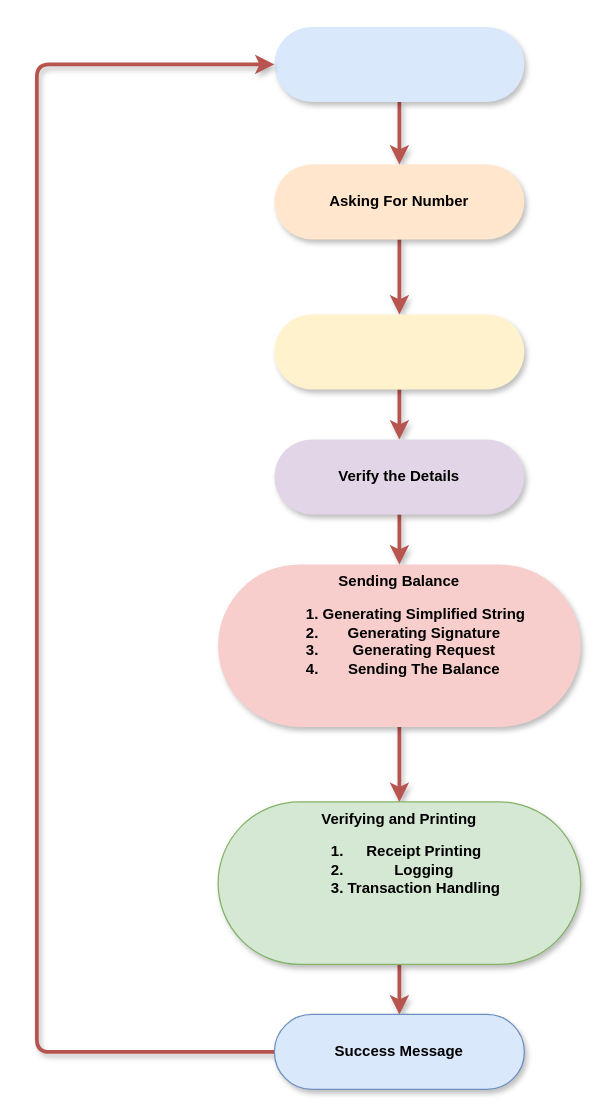
The diagram is 610 pixels wide and 1120 high, and some of its shapes have lost their labels. The centre of each missing label's shape, as x and y in pixels:
"Accepting Cash From Biller" belongs at (x=400, y=353).
"Selecting Etisalat Service" belongs at (x=400, y=65).
